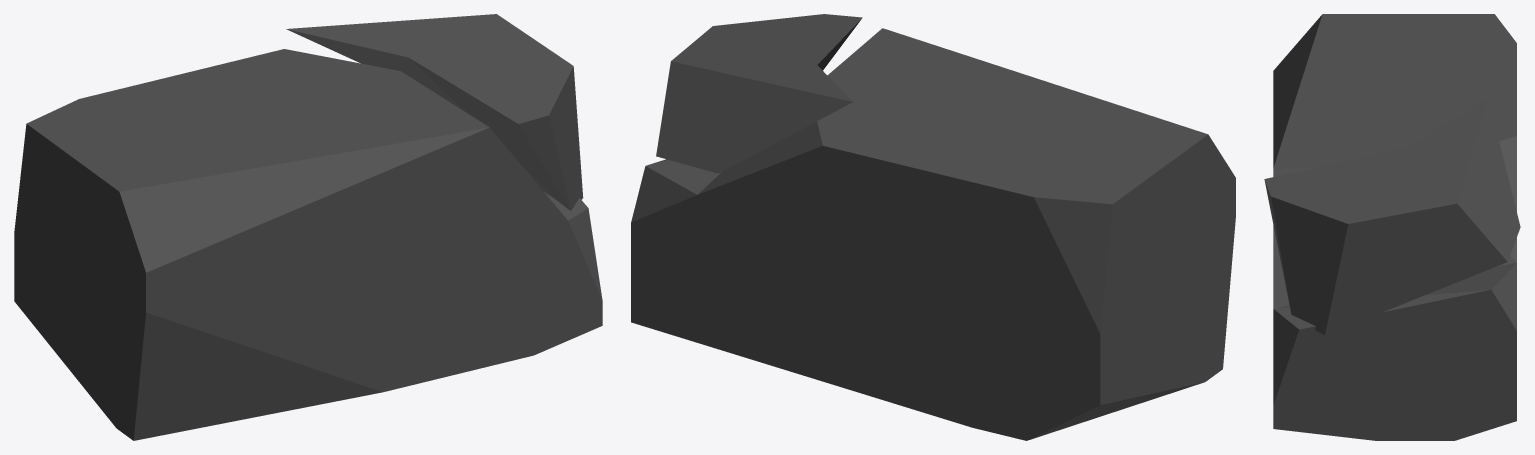
File: Brick_A_10.FBX
The picture shows the model from 3 angles, left to right: view 1: azimuth 30°, elevation 25°; view 2: azimuth 150°, elevation 25°; view 3: azimuth 270°, elevation 25°; orthographic projection. The views are drawn at different scales.
Visible parts, largest first — view 1: Brick_A_10; view 2: Brick_A_10; view 3: Brick_A_10.
Boxes of the visible parts, x1,y1,x2,y2 form: Brick_A_10: [14, 14, 602, 440]; Brick_A_10: [631, 14, 1235, 440]; Brick_A_10: [1264, 14, 1520, 440].
Bounding box in the file's own units: 2.05 × 1.15 × 1.05.
